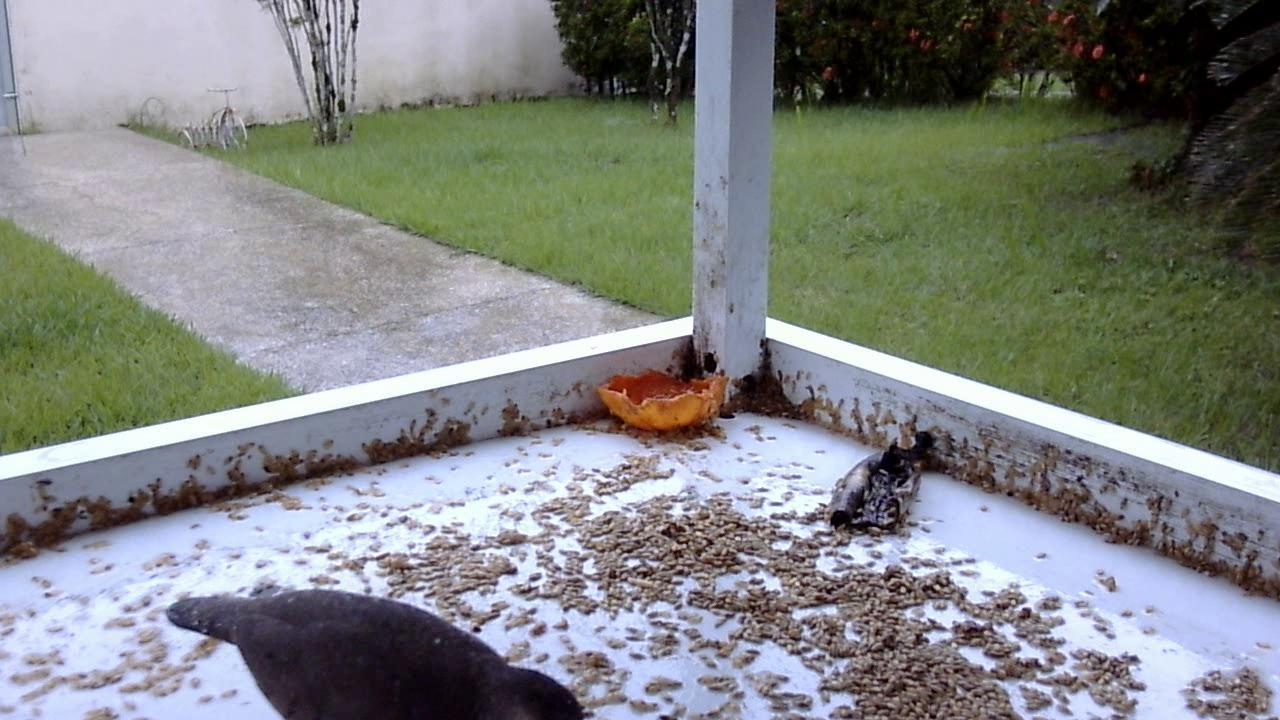rolinha: (162, 578, 592, 718)
